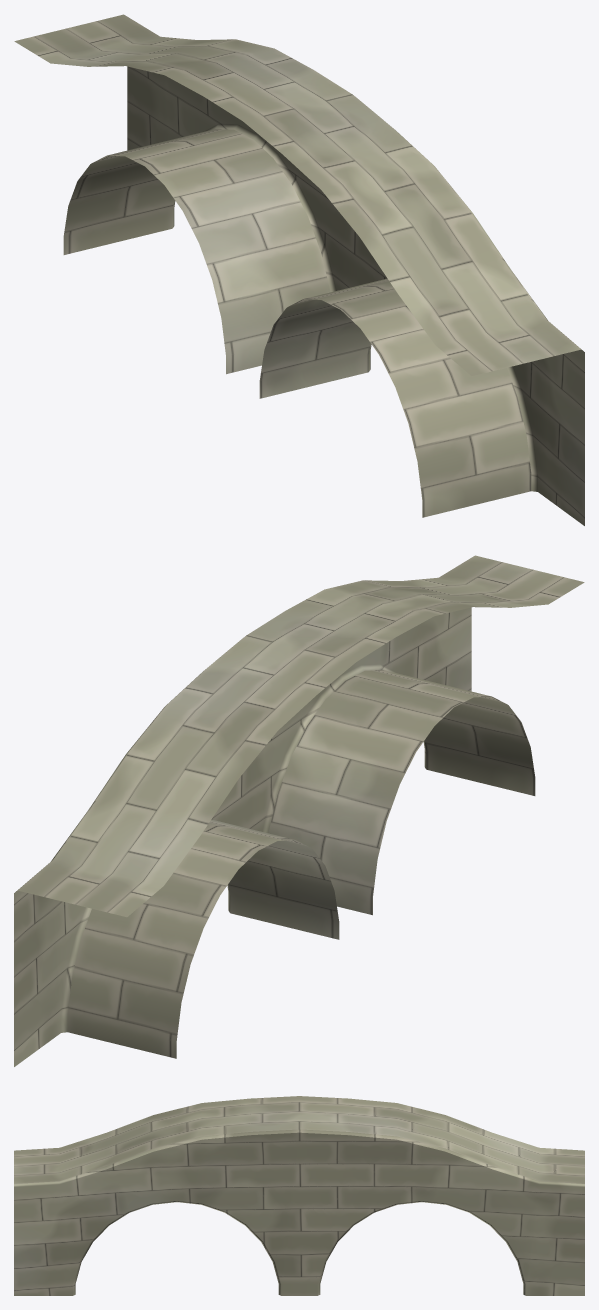
Rendered from MGBridge.fbx.
The picture shows the model from 3 angles, top to bottom: view 1: azimuth 30°, elevation 25°; view 2: azimuth 150°, elevation 25°; view 3: azimuth 270°, elevation 25°; orthographic projection. The views are drawn at different scales.
Parts seen in each view (by area): view 1: medievalBridge1; view 2: medievalBridge1; view 3: medievalBridge1.
Part boxes in pixels (left/top/right/bottom): medievalBridge1: left=14, top=14, right=584, bottom=525; medievalBridge1: left=14, top=555, right=584, bottom=1066; medievalBridge1: left=14, top=1096, right=584, bottom=1295.
Size of the model in its own units: 10 by 22.38 by 70.
1 material, 1 textured.
